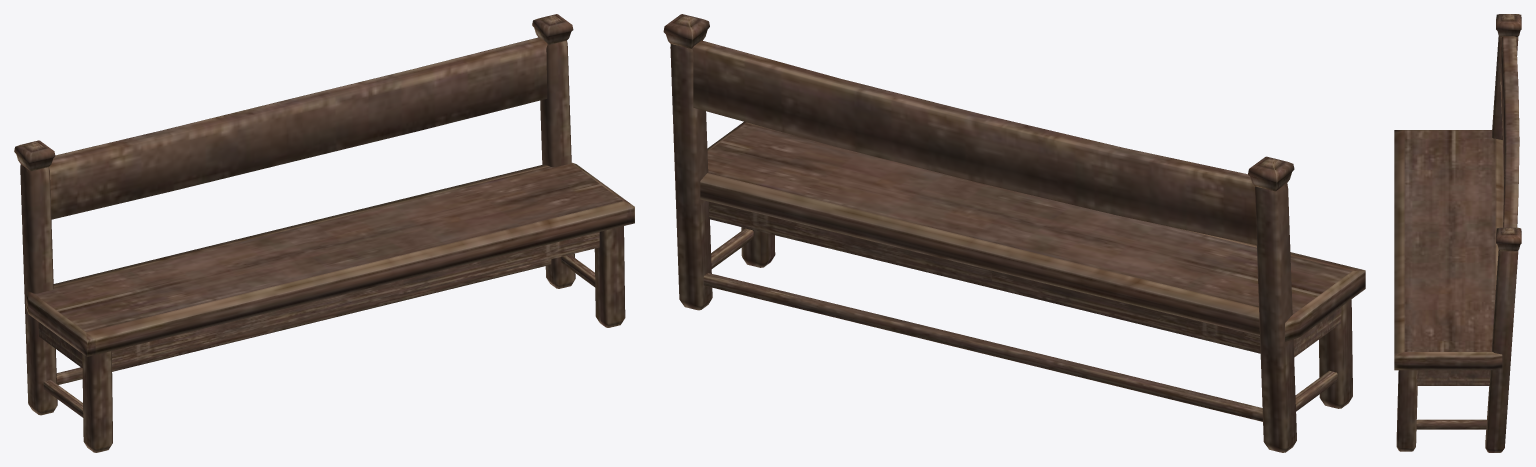
Rendered from bench_comfort2.glb.
3 renders of one model, left to right at view 1: azimuth 30°, elevation 25°; view 2: azimuth 150°, elevation 25°; view 3: azimuth 270°, elevation 25°, orthographic. The views are drawn at different scales.
Parts seen in each view (by area): view 1: ensemble_set_dungeon_bench_small; view 2: ensemble_set_dungeon_bench_small; view 3: ensemble_set_dungeon_bench_small.
Boxes of the visible parts, left/top/right/bottom form: ensemble_set_dungeon_bench_small: left=14, top=14, right=634, bottom=452; ensemble_set_dungeon_bench_small: left=663, top=14, right=1365, bottom=452; ensemble_set_dungeon_bench_small: left=1394, top=14, right=1521, bottom=452.
Size of the model in its own units: 2.38 by 1.08 by 0.566.
1 material, 1 textured.
